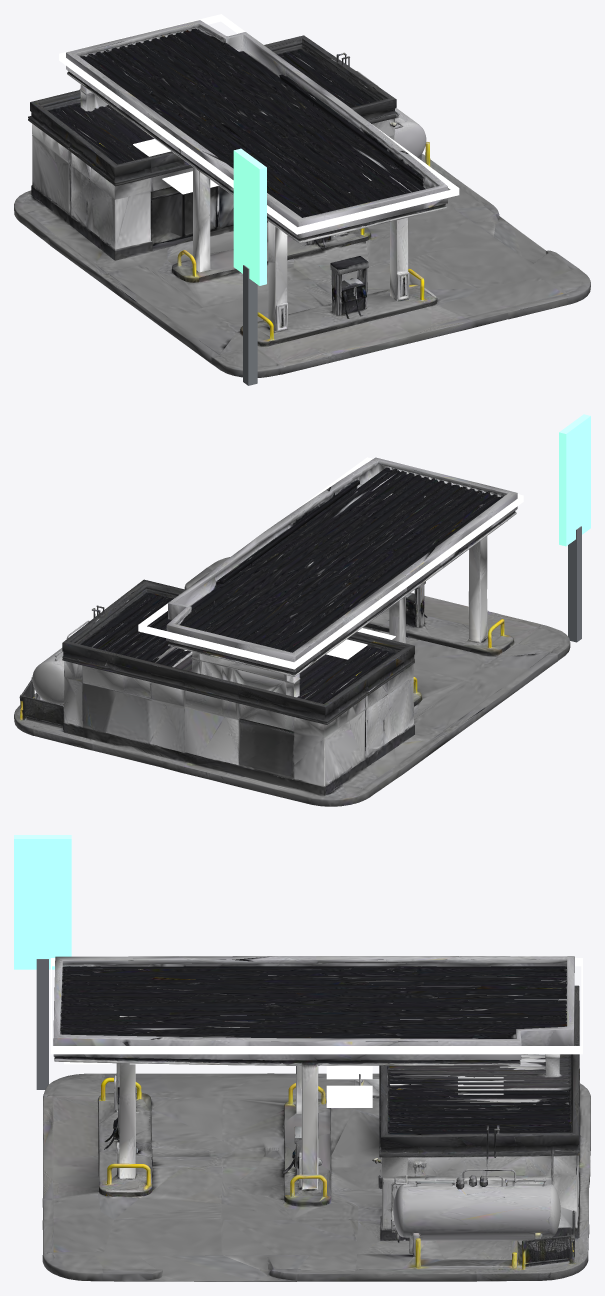
Rendered from gas-hw2.glb.
3 views of the same model, one above another, from view 1: azimuth 30°, elevation 25°; view 2: azimuth 150°, elevation 25°; view 3: azimuth 270°, elevation 25° (orthographic). The views are drawn at different scales.
Visible parts, largest first — view 1: station, price_sign, canopy_band_w, sign_post, canopy_band_s, canopy_band_e, canopy_light_0_4; view 2: station, price_sign, canopy_band_w, sign_post, canopy_band_n; view 3: station, price_sign, canopy_band_e, sign_post, canopy_light_2_4, canopy_light_1_4.
Part boxes in pixels (x1,y1,x2,y2): station: (14, 20, 590, 377); price_sign: (233, 148, 266, 285); canopy_band_w: (59, 53, 297, 234); sign_post: (243, 265, 257, 385); canopy_band_s: (296, 188, 458, 234); canopy_band_e: (221, 14, 459, 195); canopy_light_0_4: (162, 171, 218, 194); station: (14, 457, 570, 806); price_sign: (559, 414, 590, 546); canopy_band_w: (293, 495, 523, 669); sign_post: (568, 526, 581, 642); canopy_band_n: (138, 624, 295, 669); station: (42, 956, 590, 1281); price_sign: (14, 835, 71, 969); canopy_band_e: (52, 1046, 581, 1054); sign_post: (36, 959, 48, 1089); canopy_light_2_4: (326, 1085, 372, 1107); canopy_light_1_4: (326, 1065, 372, 1079).
Bounding box in the file's own units: 19.75 × 11.5 × 24.01.
5 materials, 1 textured.
